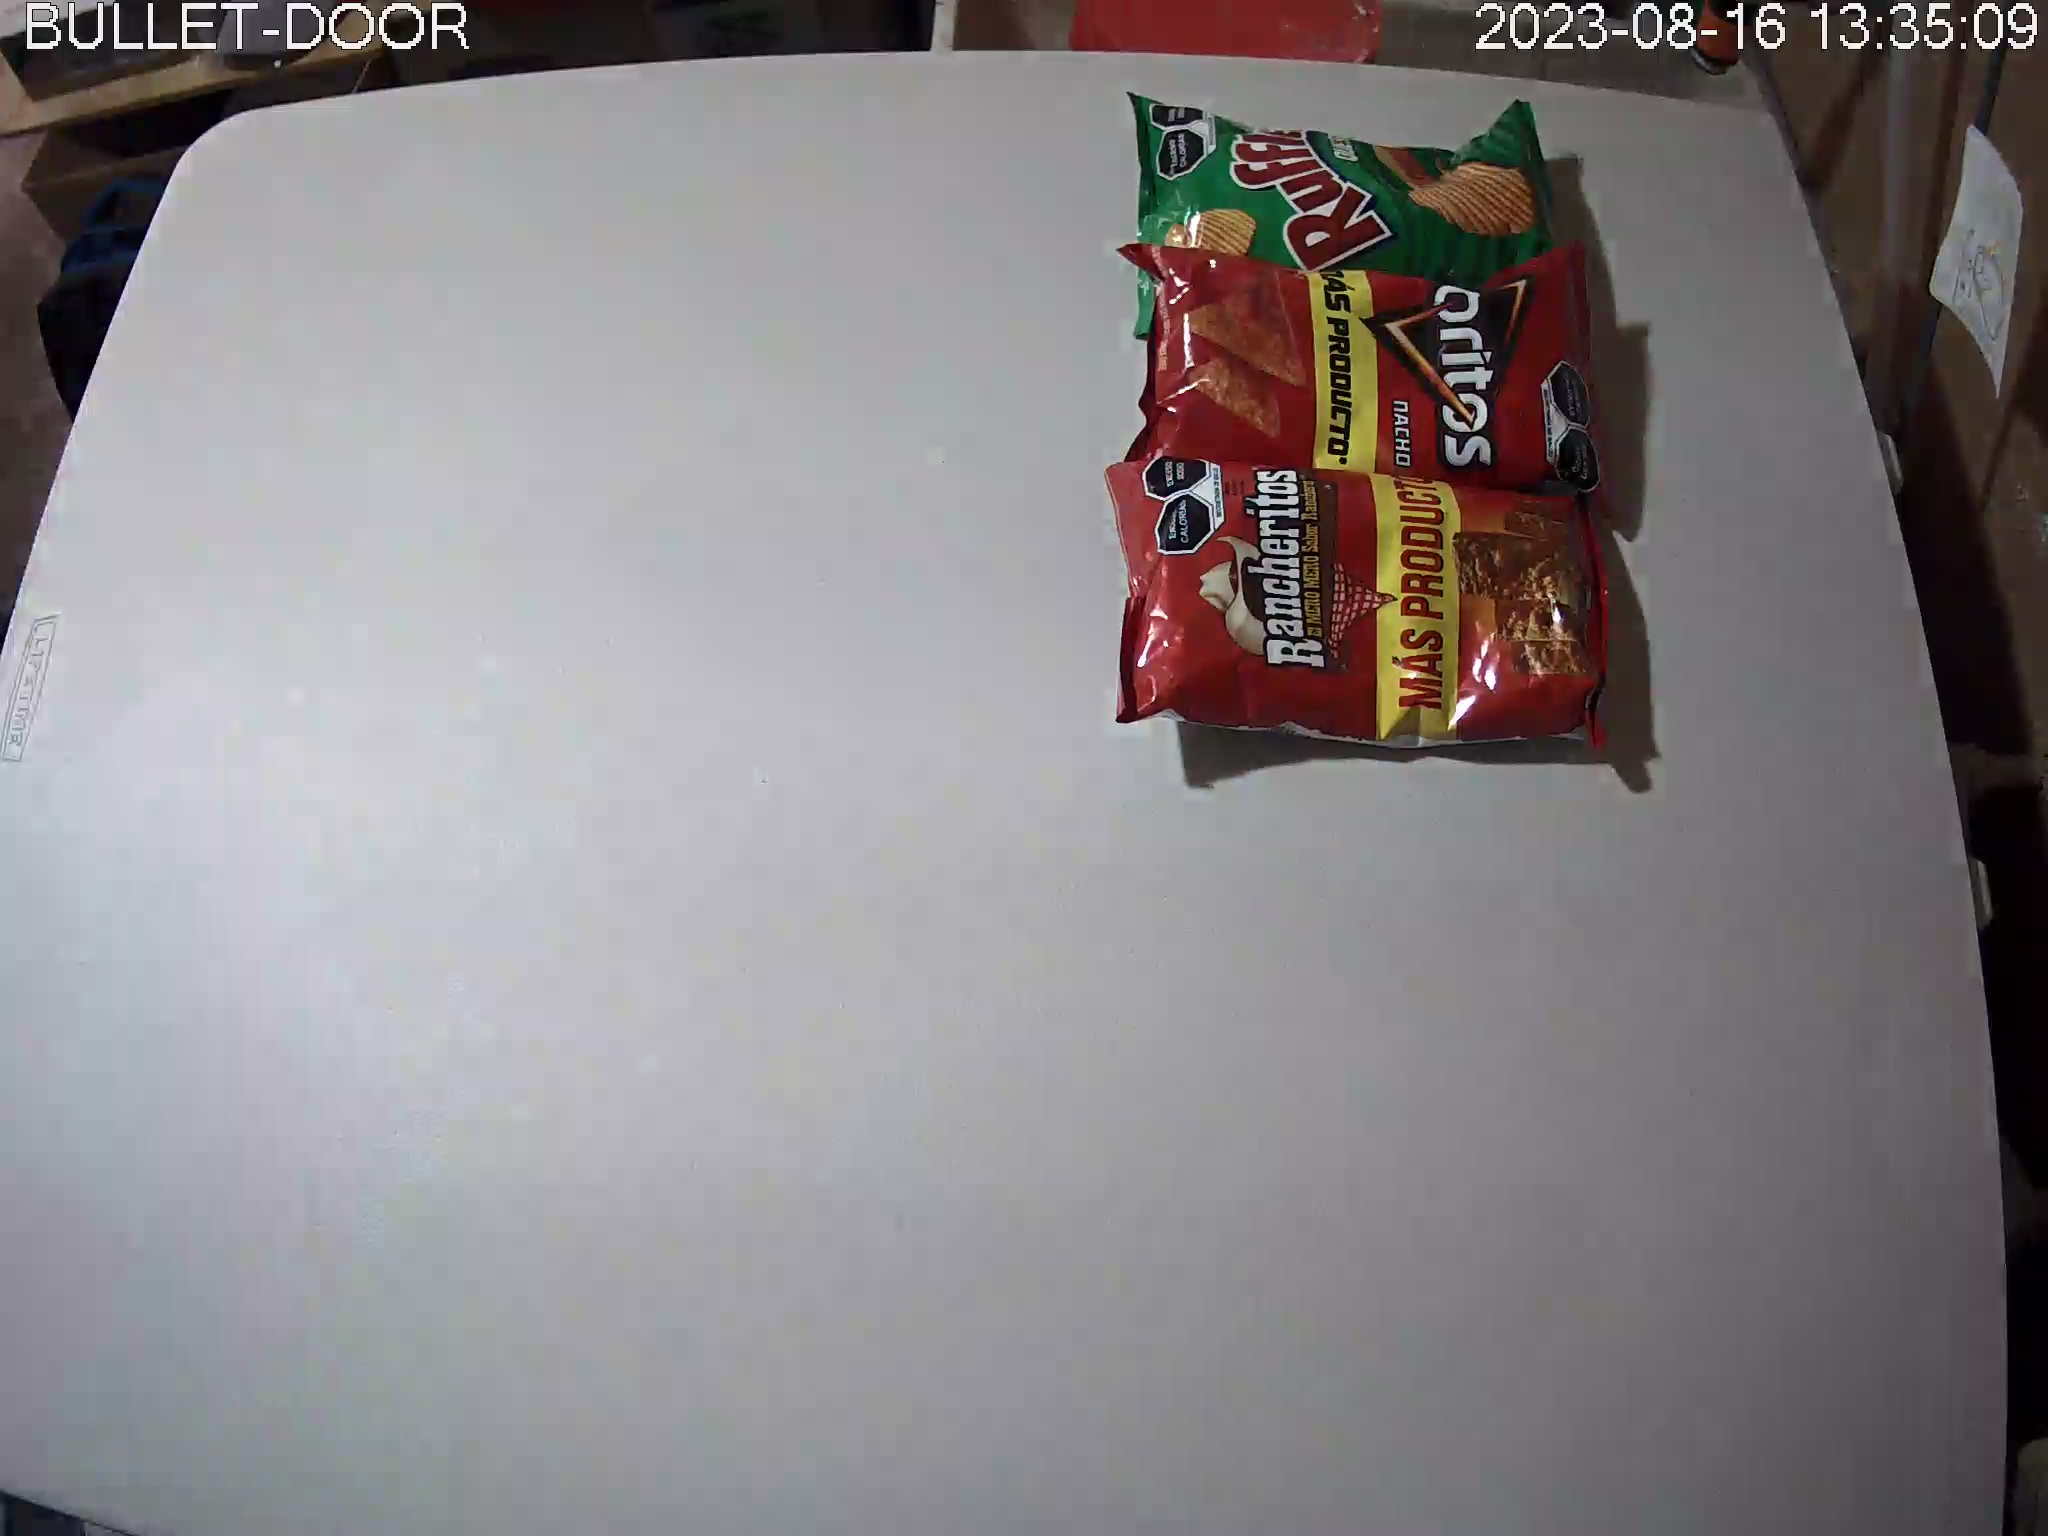DoritosN_61_F: (1122, 240, 1621, 523)
Rancheritos_58_F: (1100, 458, 1613, 763)
RufflesQ_48_F: (1126, 90, 1571, 344)
